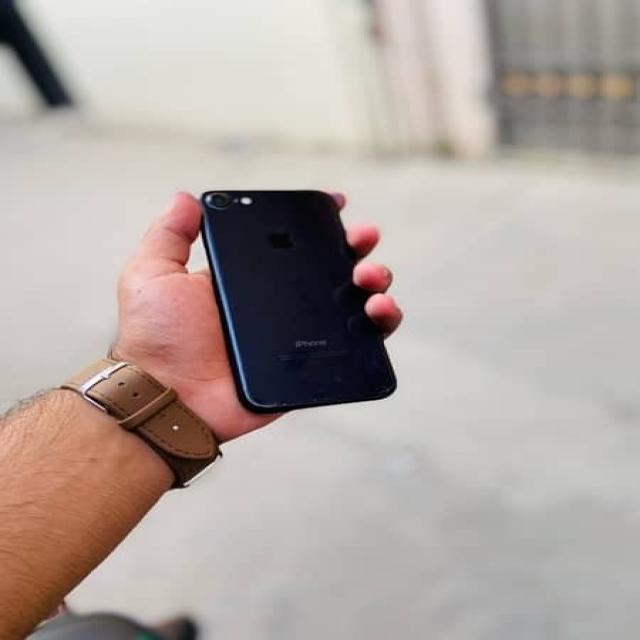mobile phone: (196, 188, 397, 414)
